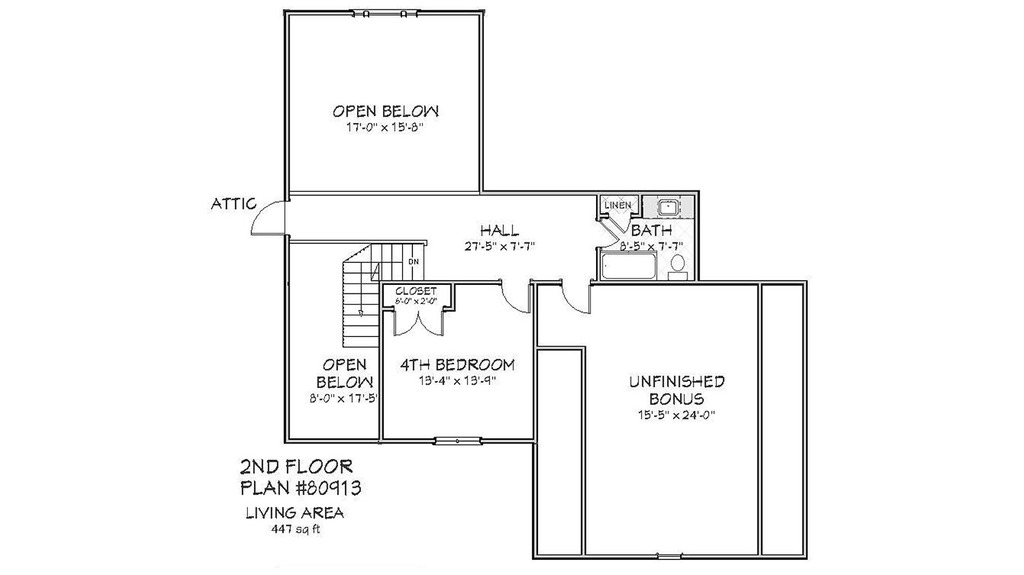door: (392, 302, 460, 340), (497, 272, 539, 320), (559, 272, 599, 317), (252, 199, 290, 236), (596, 213, 620, 247)
large_sink: (667, 244, 690, 284)
small_sink: (642, 195, 699, 226)
stairs: (333, 238, 426, 345)
tub: (596, 249, 662, 283)
window: (352, 7, 420, 20), (426, 433, 489, 447)
